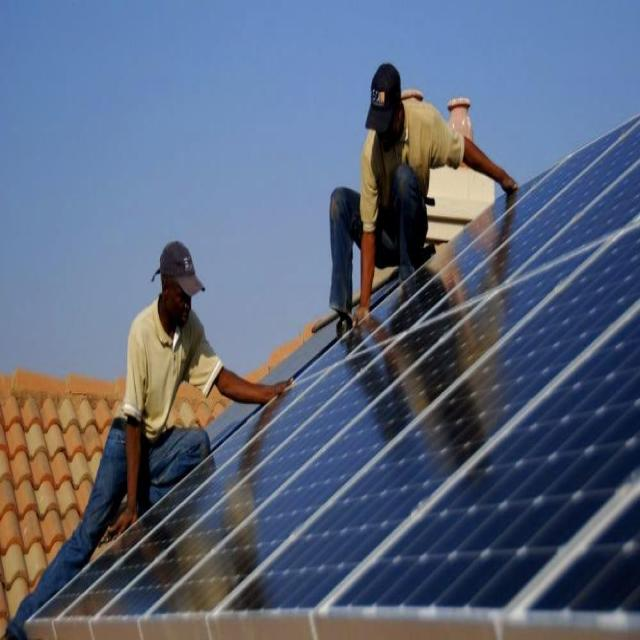clean-solar-panel: (29, 116, 640, 637)
